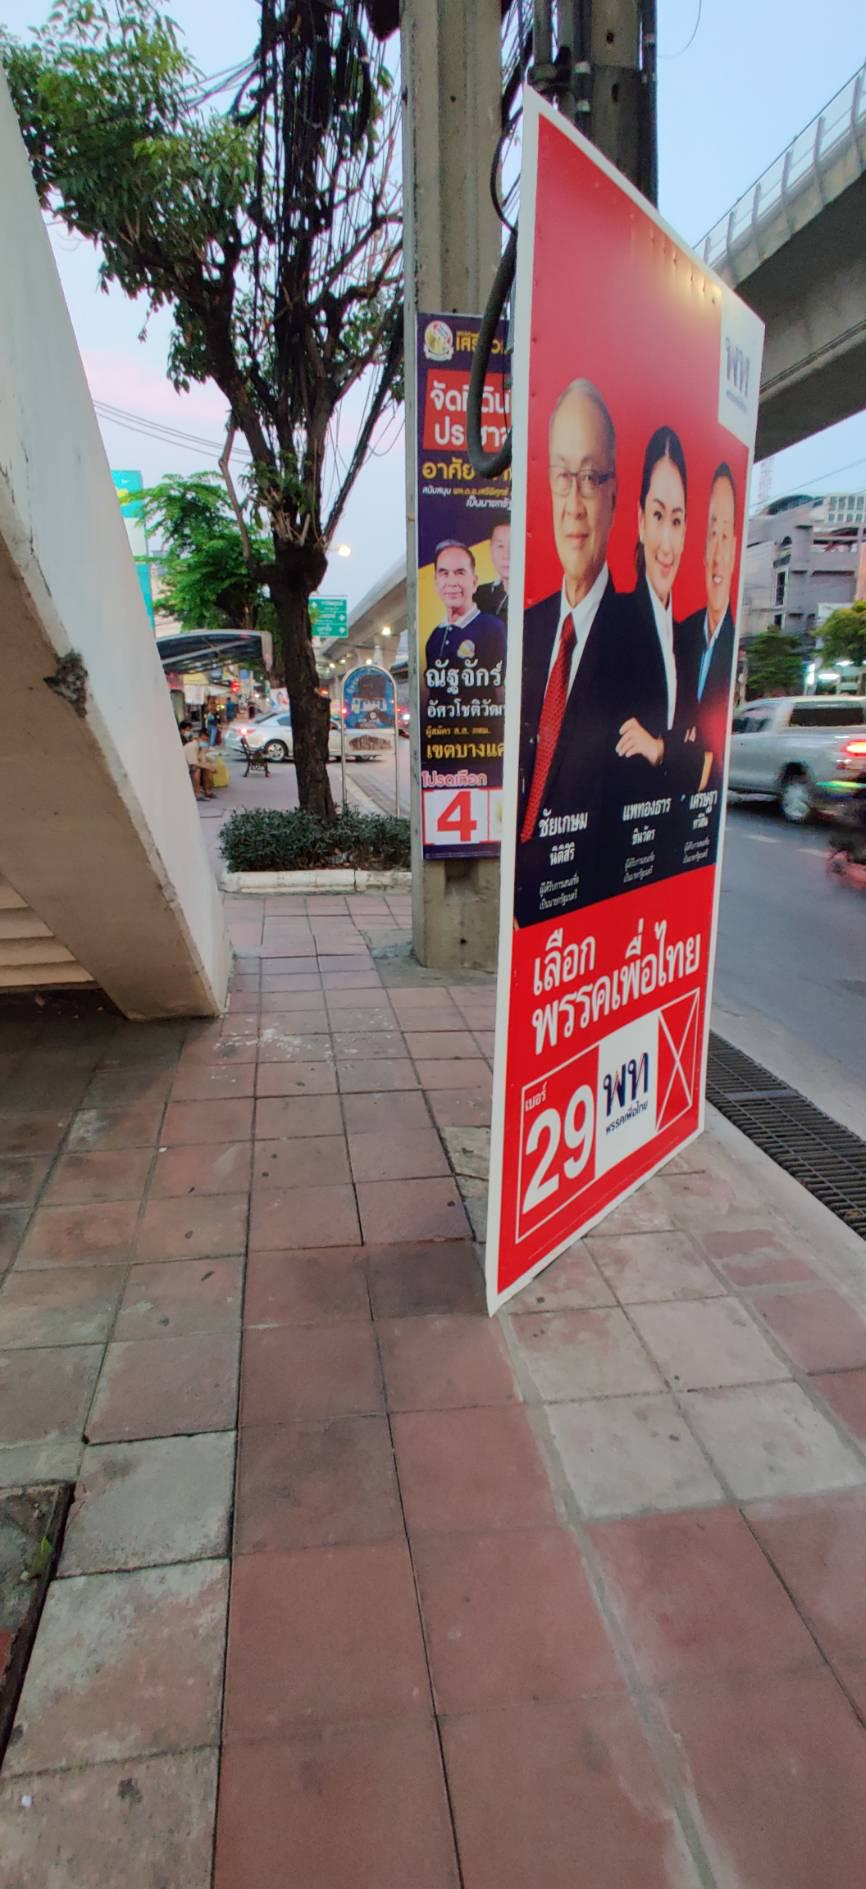Banner: (475, 157, 761, 1295), (410, 307, 528, 831)
